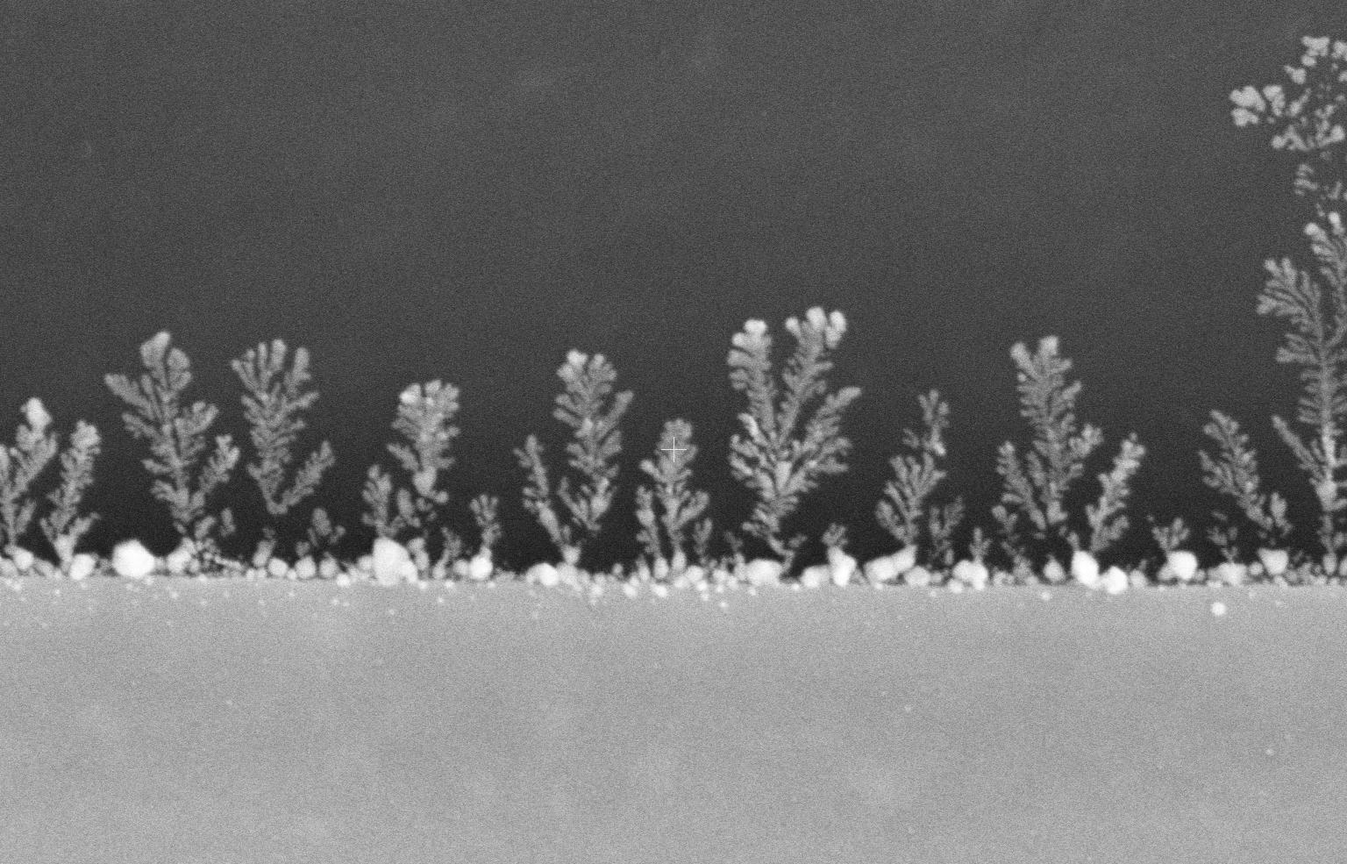Dendrite: (1230, 36, 1346, 582), (727, 306, 859, 565), (105, 332, 239, 577), (517, 349, 632, 565), (232, 339, 335, 580), (997, 335, 1101, 555), (362, 379, 459, 584), (876, 389, 961, 559), (0, 397, 75, 580), (1199, 410, 1288, 544), (637, 419, 709, 568), (42, 421, 98, 574), (1089, 443, 1144, 551), (866, 546, 989, 592), (527, 559, 652, 596), (800, 523, 866, 588), (647, 559, 785, 588), (993, 506, 1038, 584), (295, 508, 340, 581), (1148, 516, 1197, 582), (1207, 511, 1250, 585), (467, 494, 502, 581), (1100, 555, 1157, 594), (955, 527, 990, 588), (1257, 547, 1311, 584), (315, 556, 374, 586), (526, 562, 581, 589), (1072, 550, 1099, 587), (694, 518, 712, 564), (68, 553, 96, 579), (1042, 557, 1066, 583), (723, 532, 741, 564), (90, 558, 112, 575)
